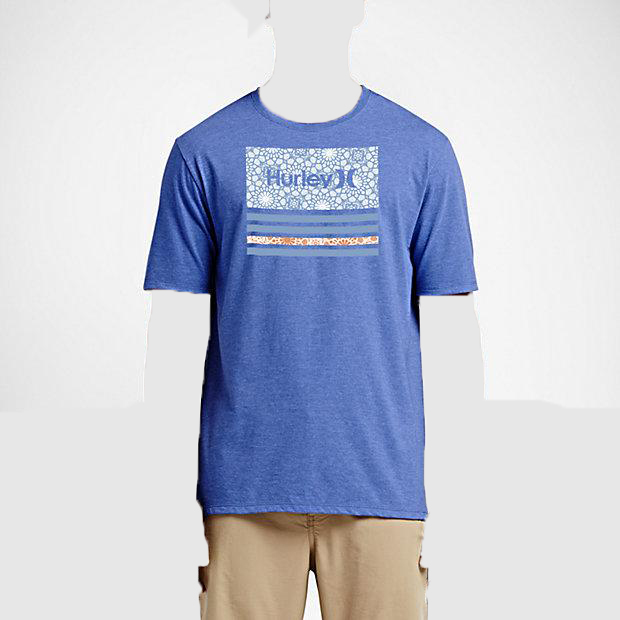teeshirt: (133, 84, 483, 520)
